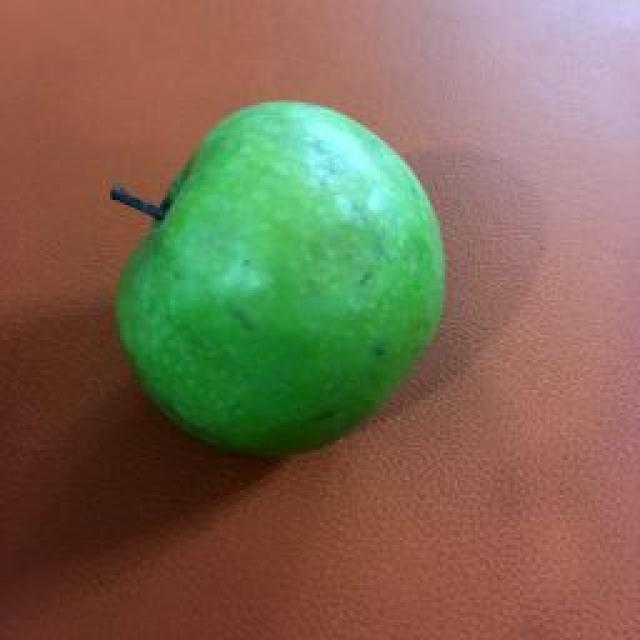Good_Apple: (110, 100, 448, 460)
